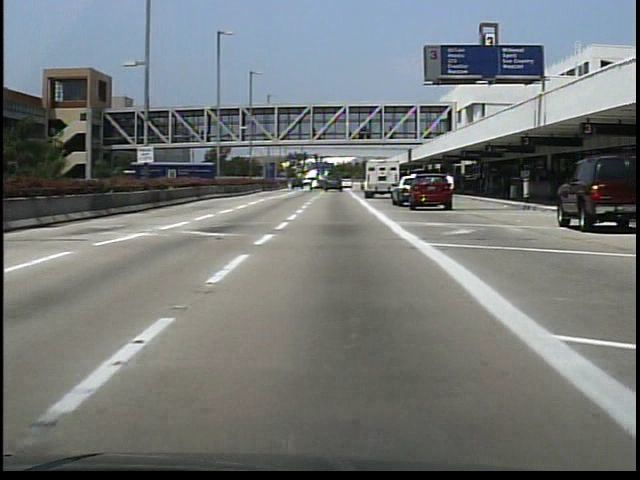person: (441, 174, 459, 209)
